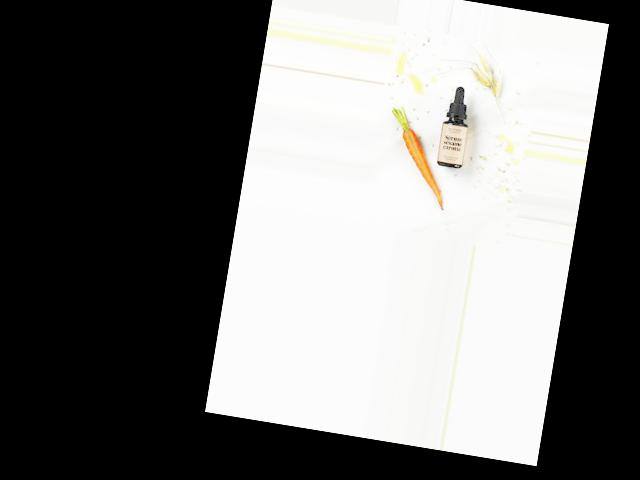carrot: (385, 122, 465, 217)
